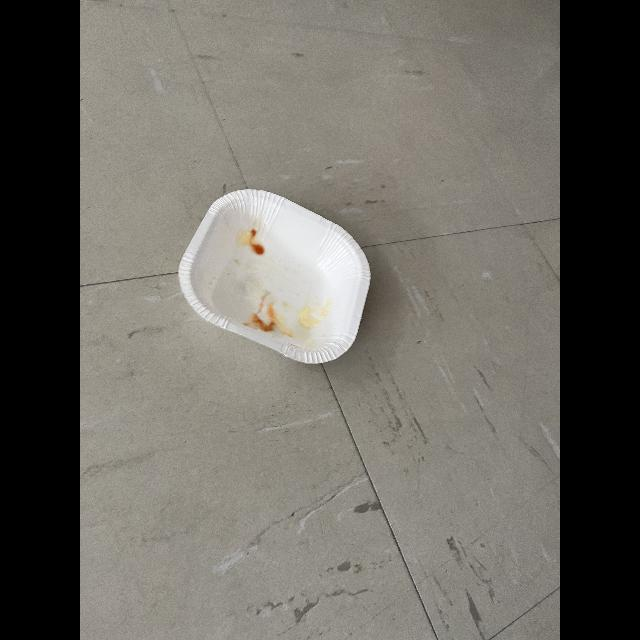cardboard_bowl: (157, 164, 383, 378)
